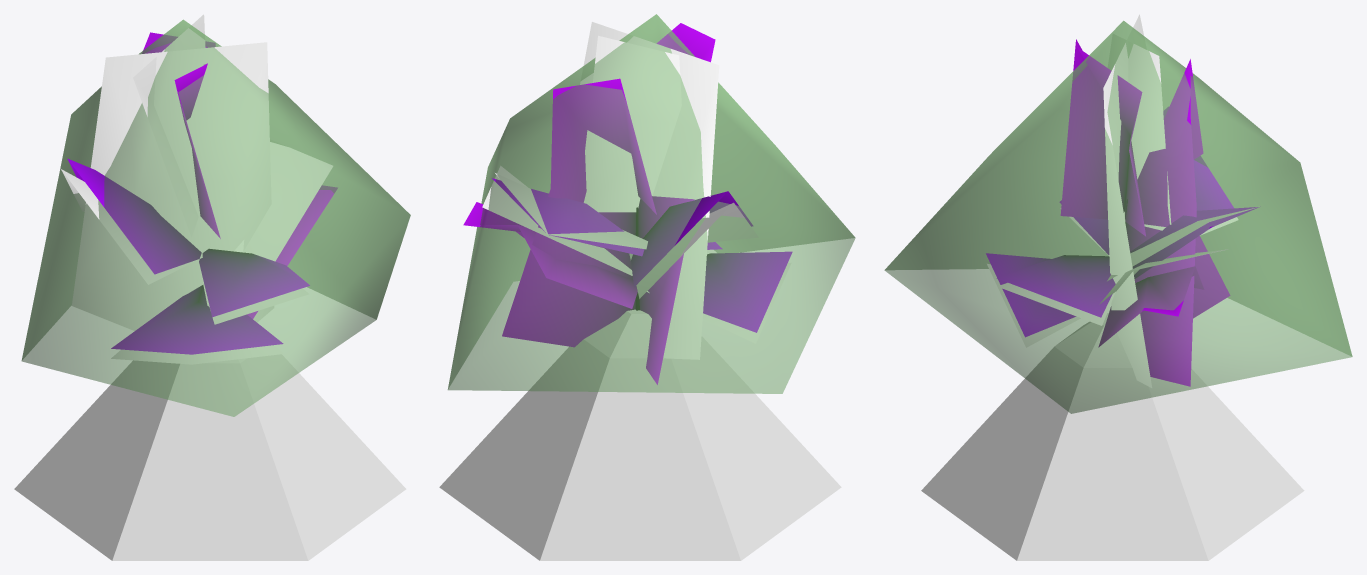
File: tree_douglasfir_bush_b.dae
3 views of the same model, side by side, from view 1: azimuth 30°, elevation 25°; view 2: azimuth 150°, elevation 25°; view 3: azimuth 270°, elevation 25° (orthographic). The views are drawn at different scales.
Visible parts, largest first — view 1: Colmesh_bush_b-1, tree_douglasfir_bush_b_a70, tree_douglasfir_bush_b_a100; view 2: Colmesh_bush_b-1, tree_douglasfir_bush_b_a100, tree_douglasfir_bush_b_a70; view 3: Colmesh_bush_b-1, tree_douglasfir_bush_b_a100, tree_douglasfir_bush_b_a70.
Part boxes in pixels (left/top/right/bottom): Colmesh_bush_b-1: left=14, top=19, right=410, bottom=560; tree_douglasfir_bush_b_a70: left=61, top=14, right=332, bottom=364; tree_douglasfir_bush_b_a100: left=67, top=32, right=337, bottom=354; Colmesh_bush_b-1: left=439, top=14, right=855, bottom=560; tree_douglasfir_bush_b_a100: left=463, top=23, right=792, bottom=384; tree_douglasfir_bush_b_a70: left=482, top=22, right=791, bottom=359; Colmesh_bush_b-1: left=884, top=20, right=1352, bottom=560; tree_douglasfir_bush_b_a100: left=986, top=39, right=1258, bottom=386; tree_douglasfir_bush_b_a70: left=987, top=14, right=1259, bottom=387.
Size of the model in its own units: 2.1 by 2.57 by 2.79.
